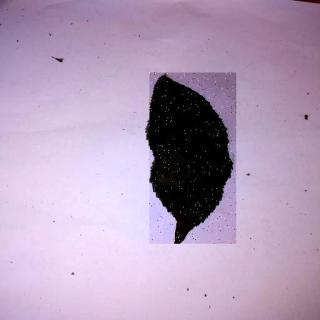Anthracnose: (151, 74, 238, 245)
